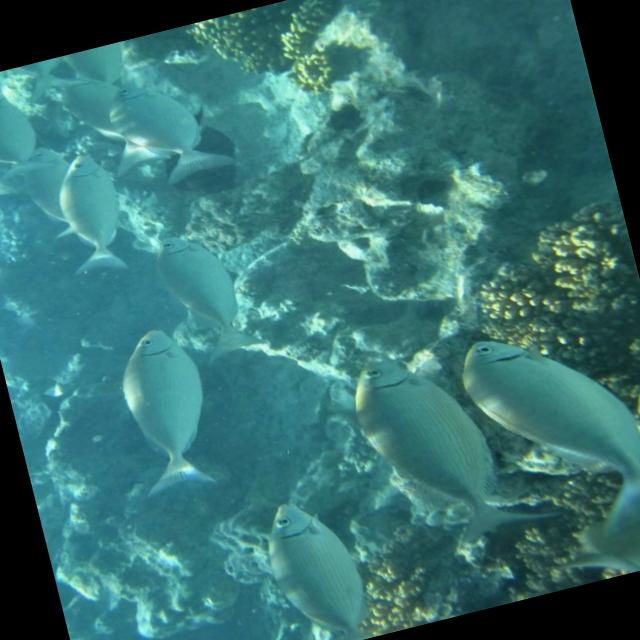Sokar Baligi: (440, 292, 640, 566), (95, 316, 233, 510), (39, 136, 142, 299)
